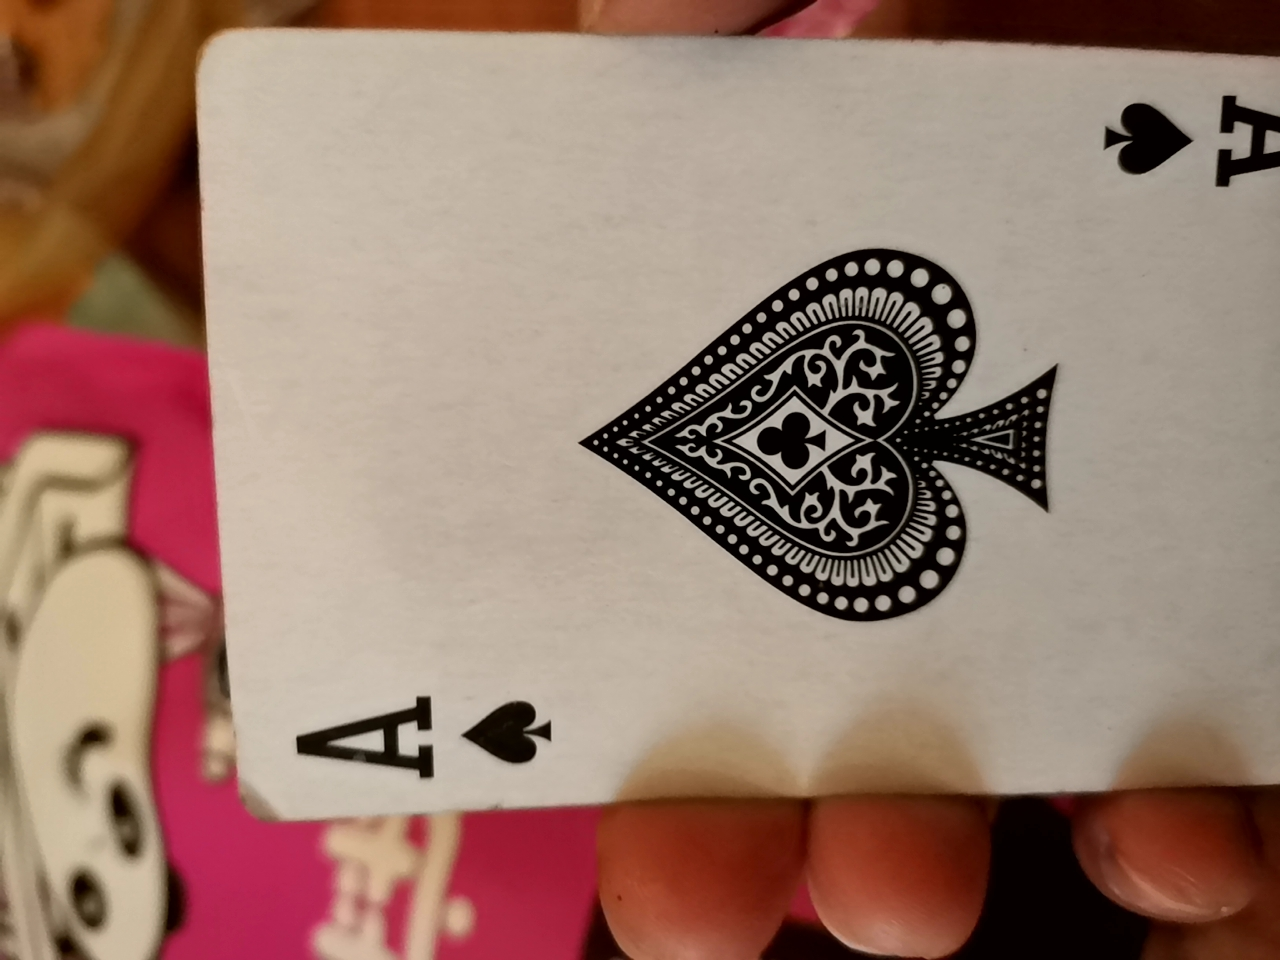ht a: (171, 46, 1272, 899)
